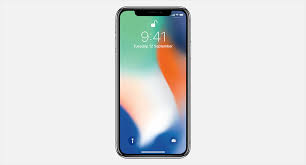iphone: (113, 5, 190, 157)
iphone10: (113, 5, 190, 157)
